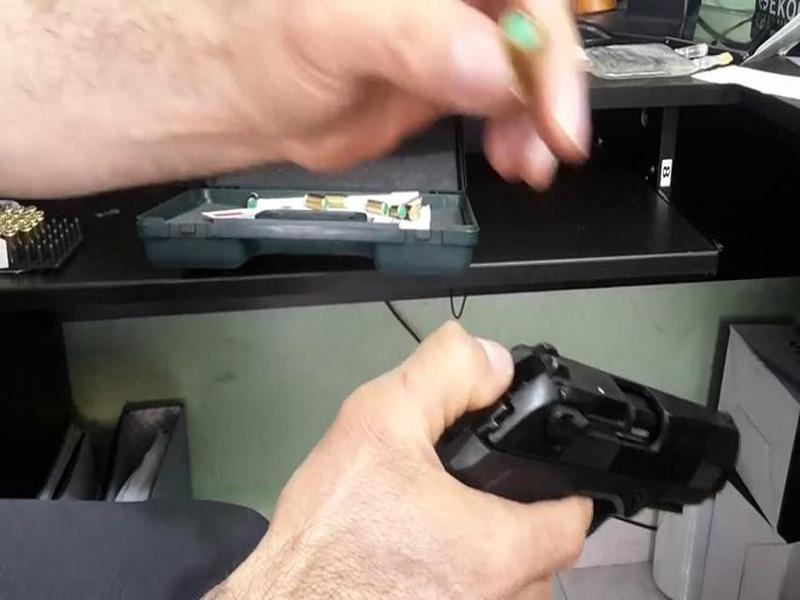Pistola: (423, 303, 747, 555)
